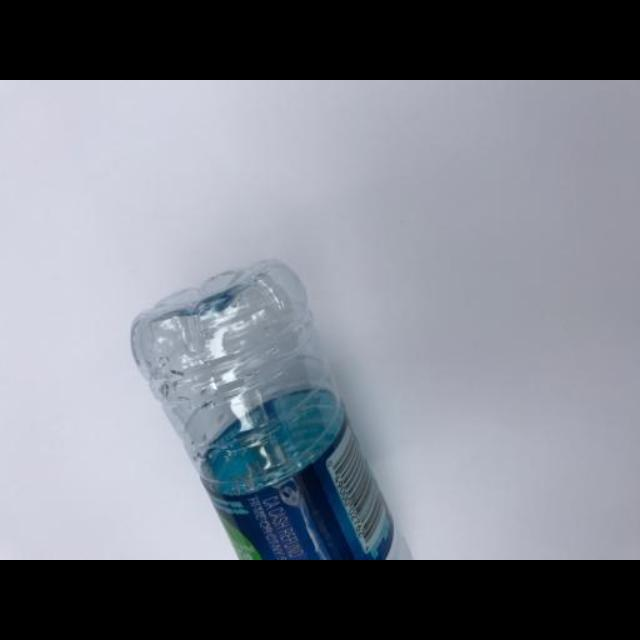garrafa plástica: (130, 258, 414, 560)
